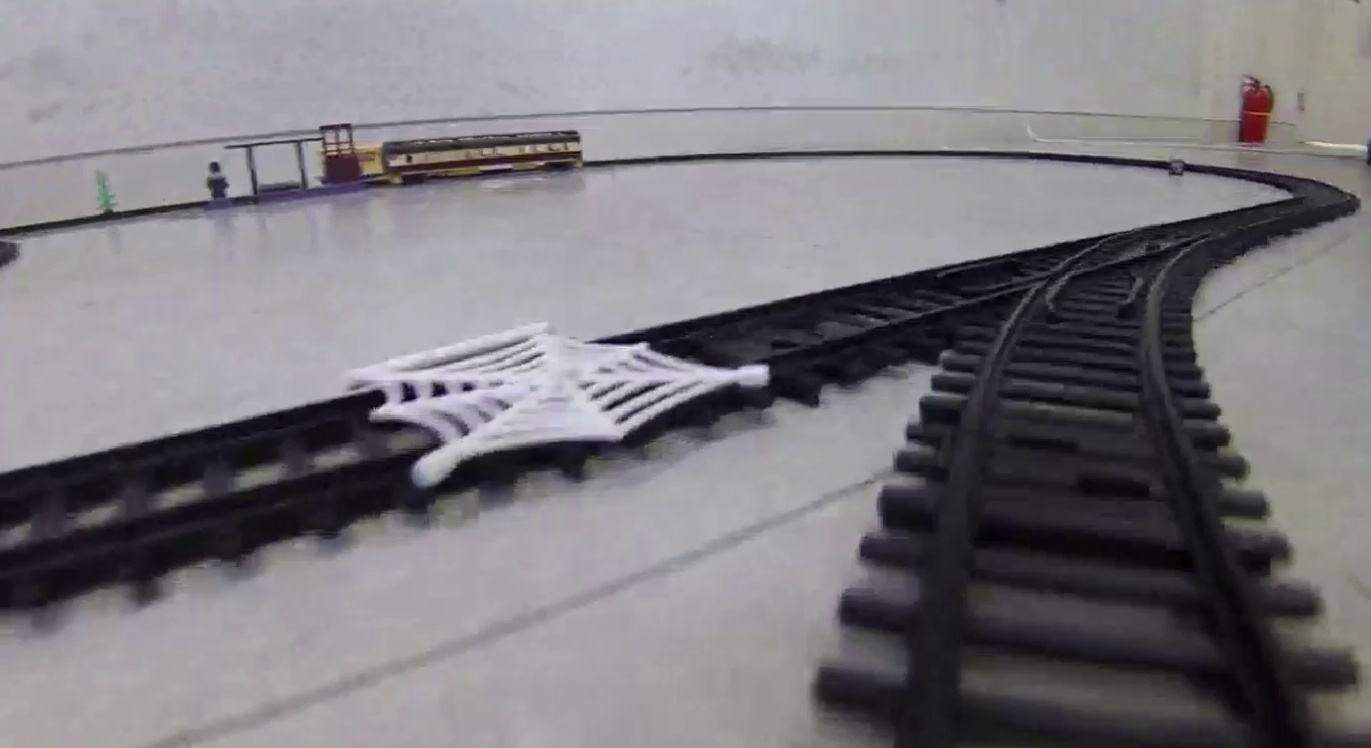web: (349, 322, 775, 489)
